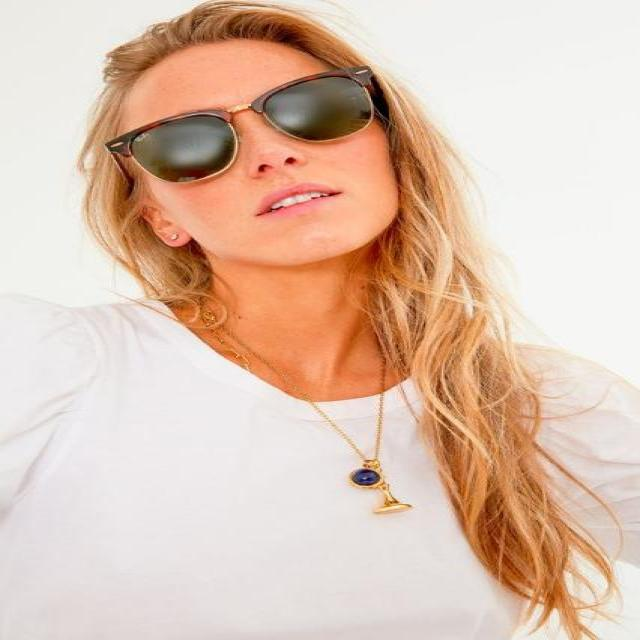glasses: (101, 64, 386, 186)
